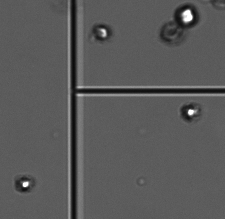Dead Cell: (161, 22, 184, 43)
Living Cell: (176, 4, 198, 27), (180, 102, 202, 121), (14, 175, 35, 193), (92, 24, 110, 41)
